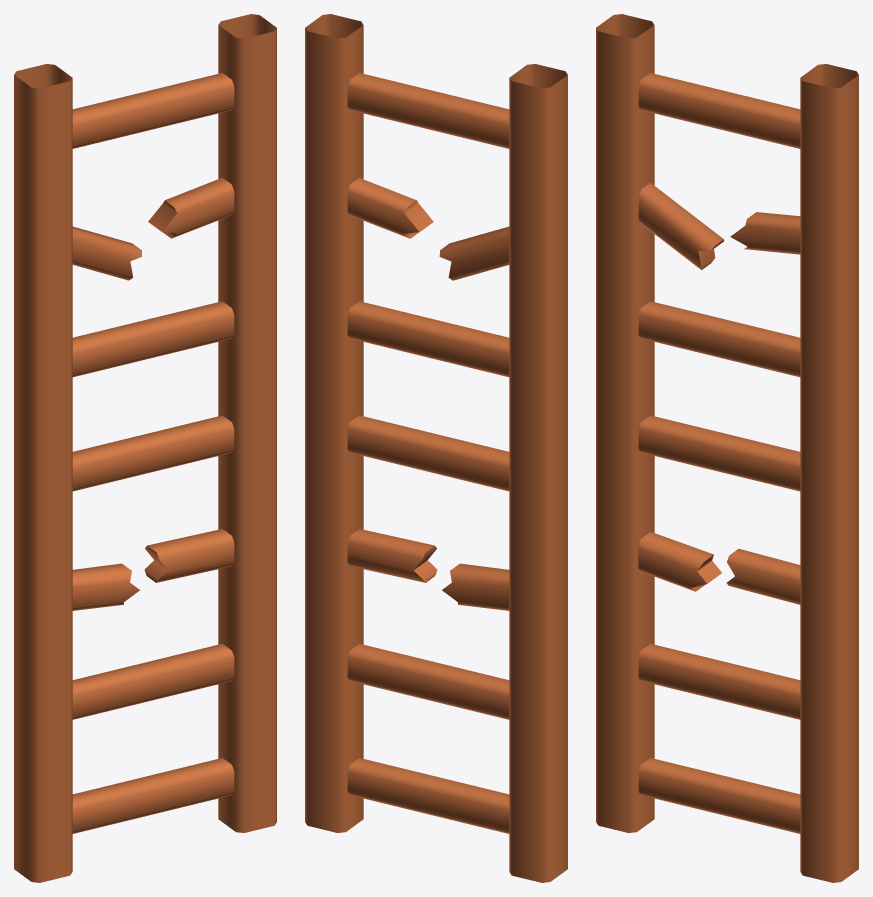
Rendered from platform_kit024.fbx.
The picture shows the model from 3 angles, left to right: view 1: azimuth 30°, elevation 25°; view 2: azimuth 150°, elevation 25°; view 3: azimuth 330°, elevation 25°; orthographic projection.
Parts seen in each view (by area): view 1: platform_kit024; view 2: platform_kit024; view 3: platform_kit024.
Boxes of the visible parts, left/top/right/bottom form: platform_kit024: left=14, top=14, right=276, bottom=882; platform_kit024: left=305, top=14, right=567, bottom=882; platform_kit024: left=596, top=14, right=858, bottom=882.
Size of the model in its own units: 64.63 by 200 by 10.78.
1 material, 1 textured.
